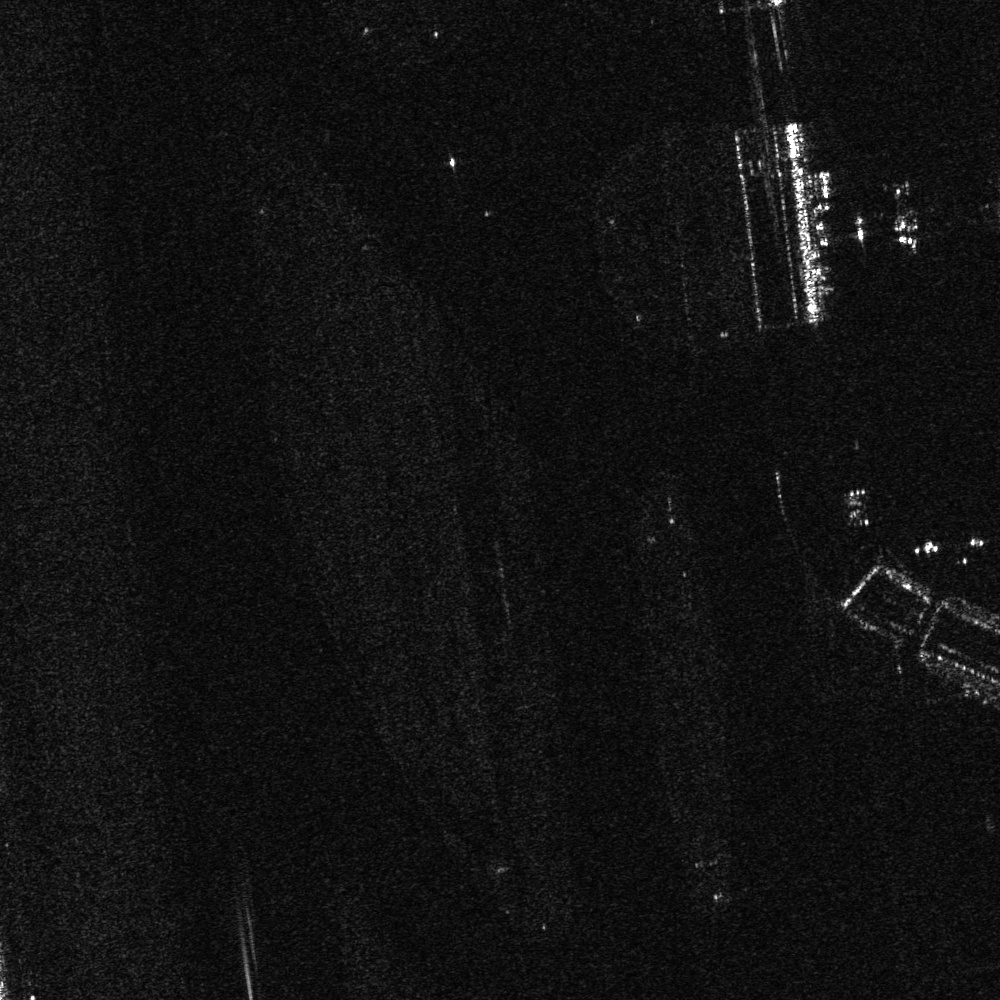A220: (872, 179, 937, 252)
